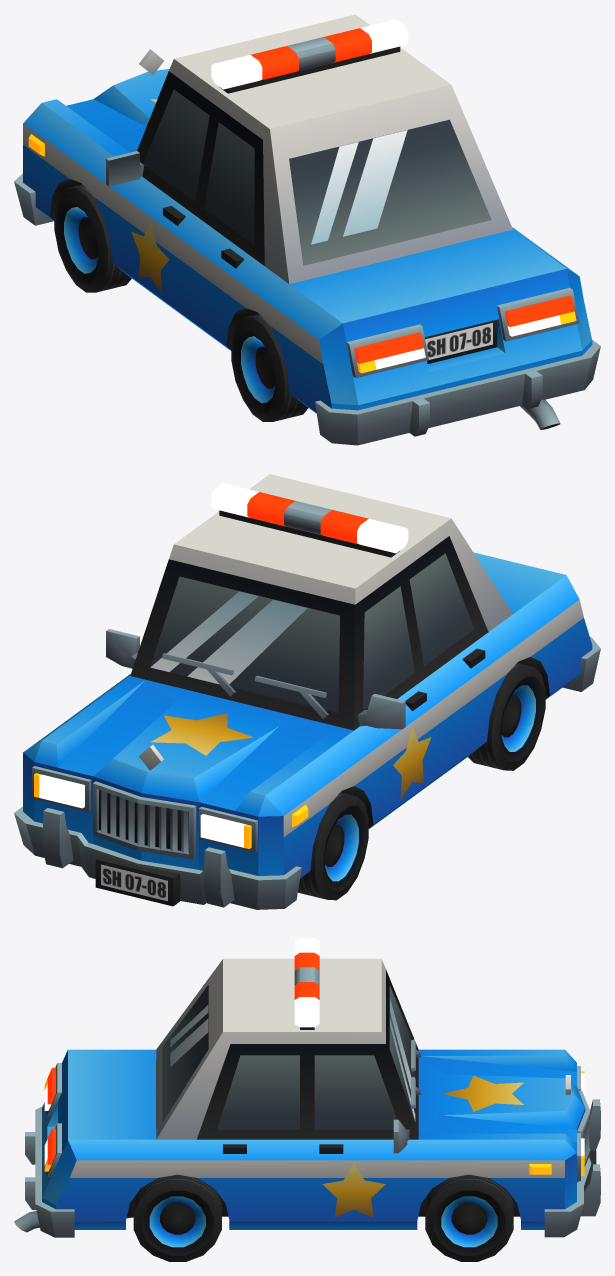
File: police.glb
3 views of the same model, one above another, from view 1: azimuth 30°, elevation 25°; view 2: azimuth 150°, elevation 25°; view 3: azimuth 270°, elevation 25° (orthographic). The views are drawn at different scales.
Visible parts, largest first — view 1: police; view 2: police; view 3: police.
Boxes of the visible parts, x1,y1,x2,y2 form: police: (14, 14, 600, 445); police: (14, 474, 600, 909); police: (14, 938, 600, 1261).
Bounding box in the file's own units: 2.28 × 2.08 × 4.73.
1 material, 1 textured.
